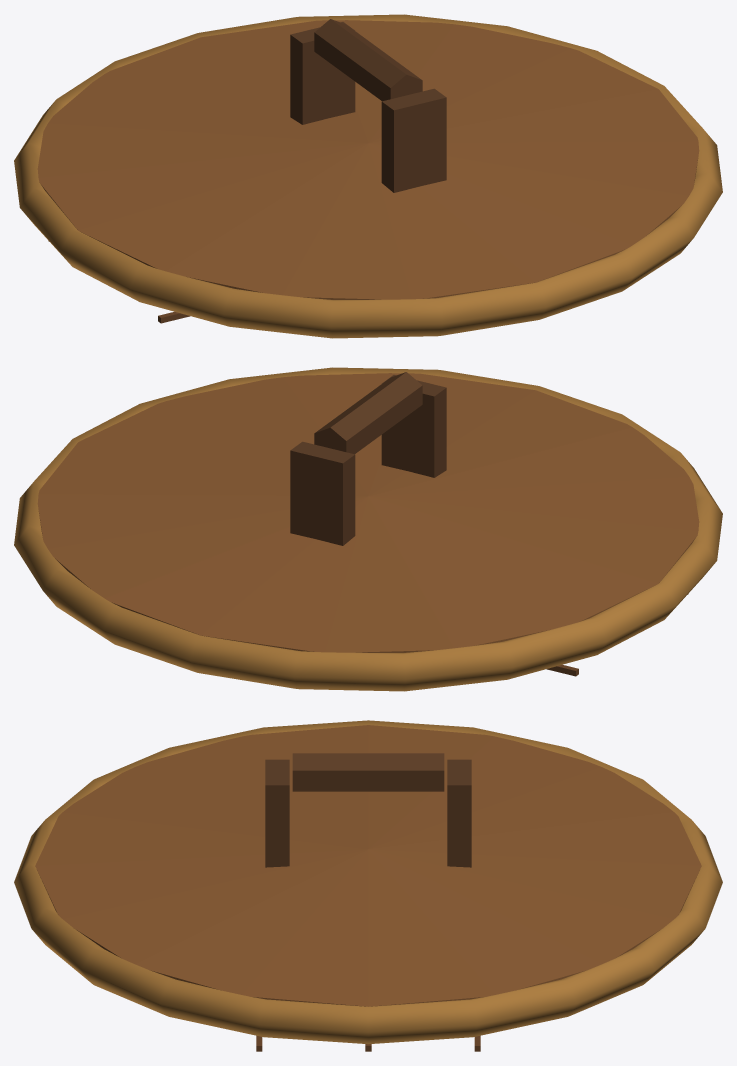
The model's file is Weapon_Shield_Bronze.fbx.
The picture shows the model from 3 angles, top to bottom: view 1: azimuth 30°, elevation 25°; view 2: azimuth 150°, elevation 25°; view 3: azimuth 270°, elevation 25°; orthographic projection.
Parts seen in each view (by area): view 1: Weapon_Shield_Bronze; view 2: Weapon_Shield_Bronze; view 3: Weapon_Shield_Bronze.
Boxes of the visible parts, left/top/right/bottom form: Weapon_Shield_Bronze: left=14, top=14, right=722, bottom=338; Weapon_Shield_Bronze: left=14, top=367, right=722, bottom=691; Weapon_Shield_Bronze: left=14, top=720, right=722, bottom=1051.
Size of the model in its own units: 23.4 by 7.63 by 23.4.
